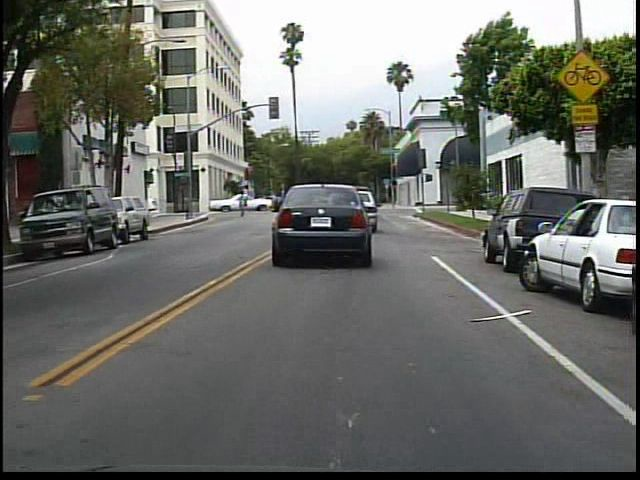person: (230, 187, 250, 218)
